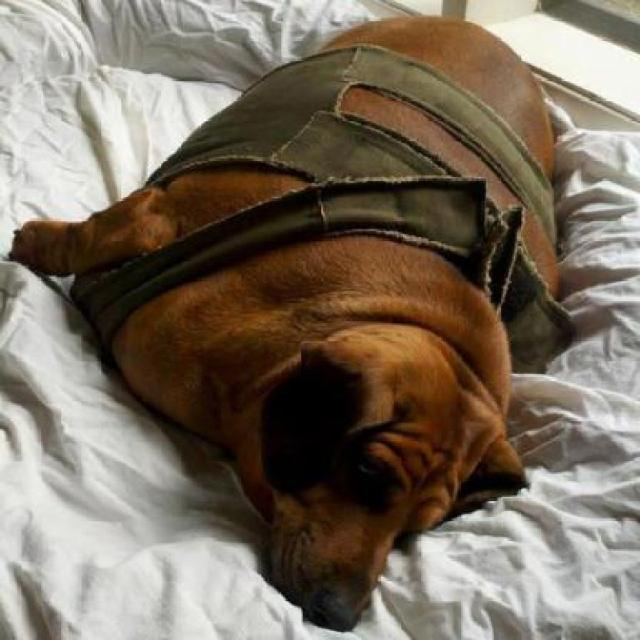Dog: (6, 11, 560, 634)
